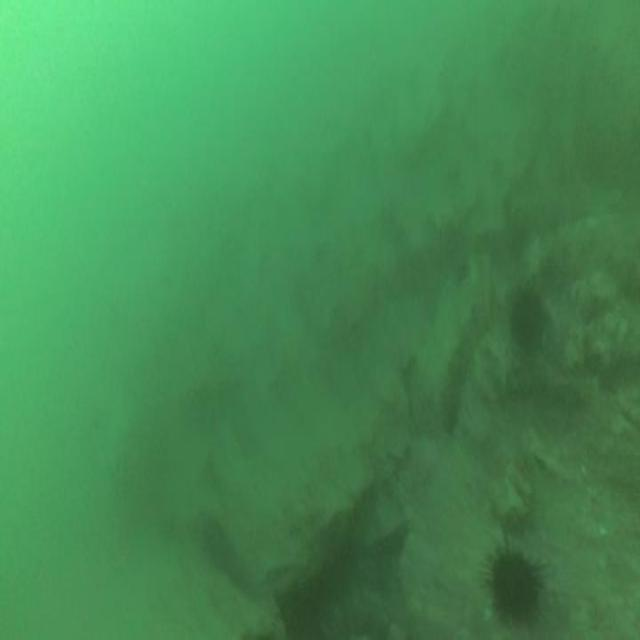echinus: (492, 551, 540, 626), (508, 290, 545, 348)
